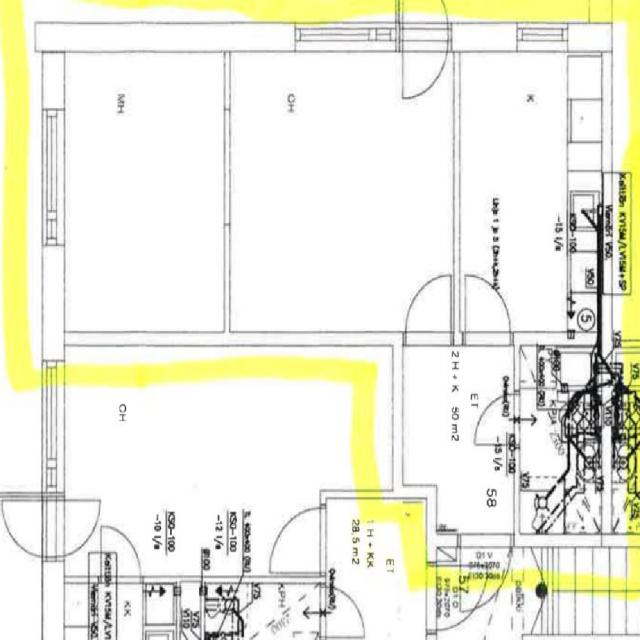door: (460, 533, 511, 612), (405, 272, 450, 344), (466, 274, 510, 345), (476, 396, 520, 444)
